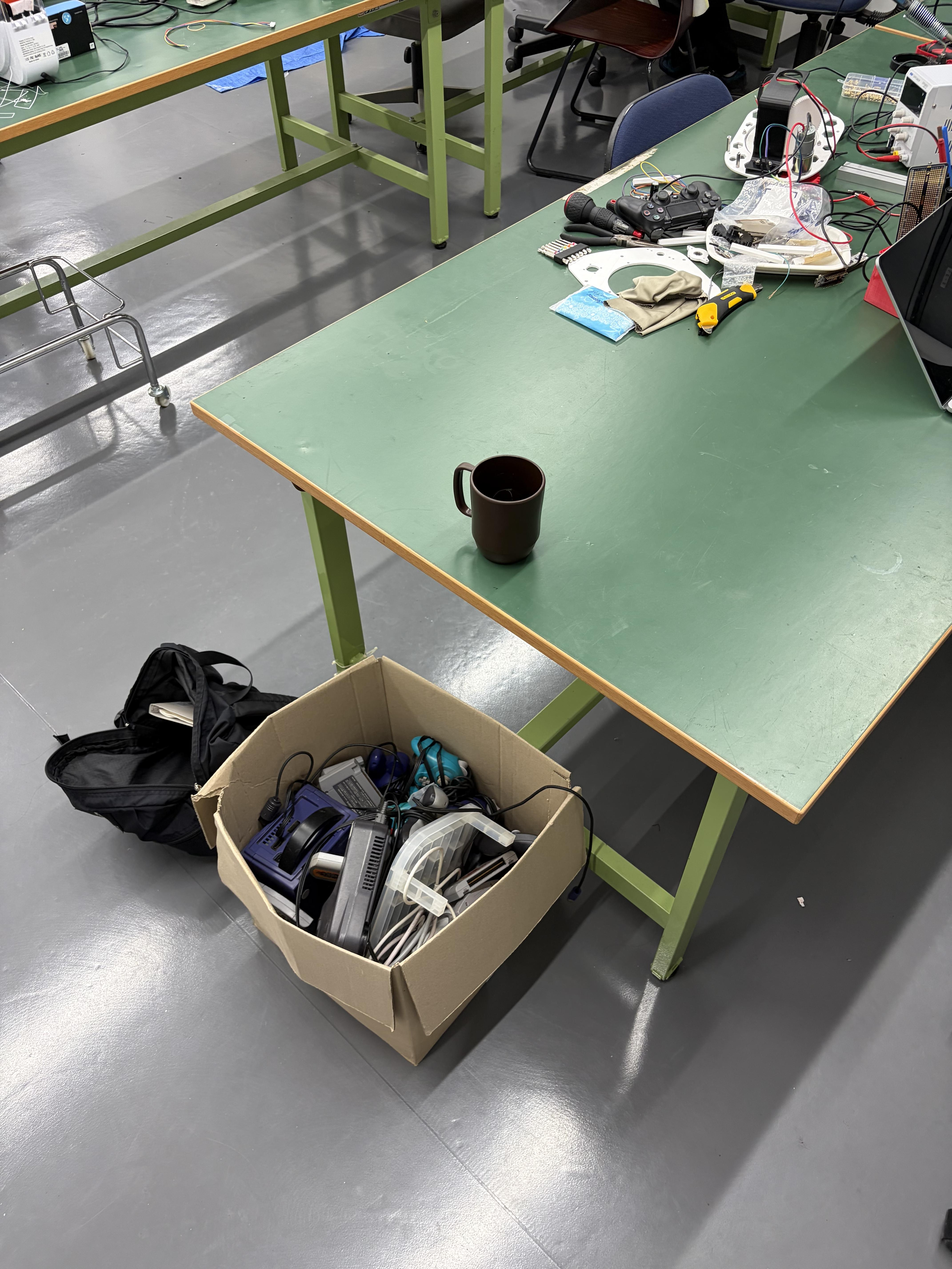mug-real100-3d100: (453, 455, 545, 564)
